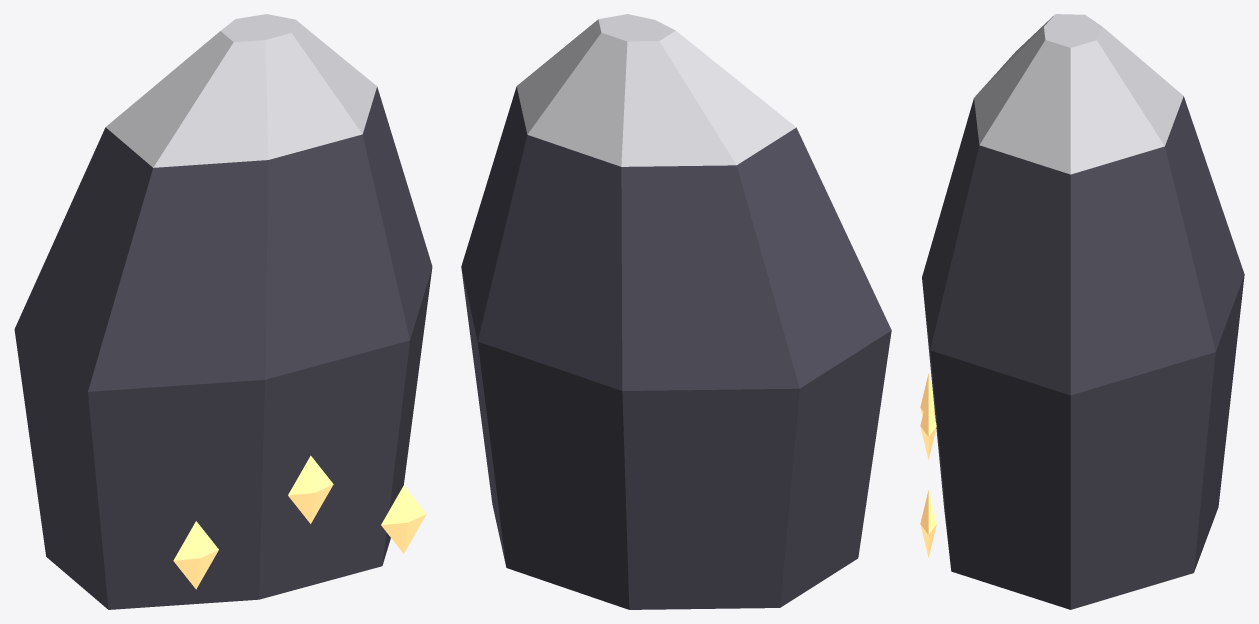
The model's file is glow-stones.glb.
3 views of the same model, side by side, from view 1: azimuth 30°, elevation 25°; view 2: azimuth 150°, elevation 25°; view 3: azimuth 270°, elevation 25° (orthographic).
Parts seen in each view (by area): view 1: glow-stones; view 2: glow-stones; view 3: glow-stones.
Boxes of the visible parts, <box> form: glow-stones: <box>14,14,432,609</box>; glow-stones: <box>461,14,891,609</box>; glow-stones: <box>920,14,1244,609</box>.
Bounding box in the file's own units: 2.7 × 3.4 × 1.96.
